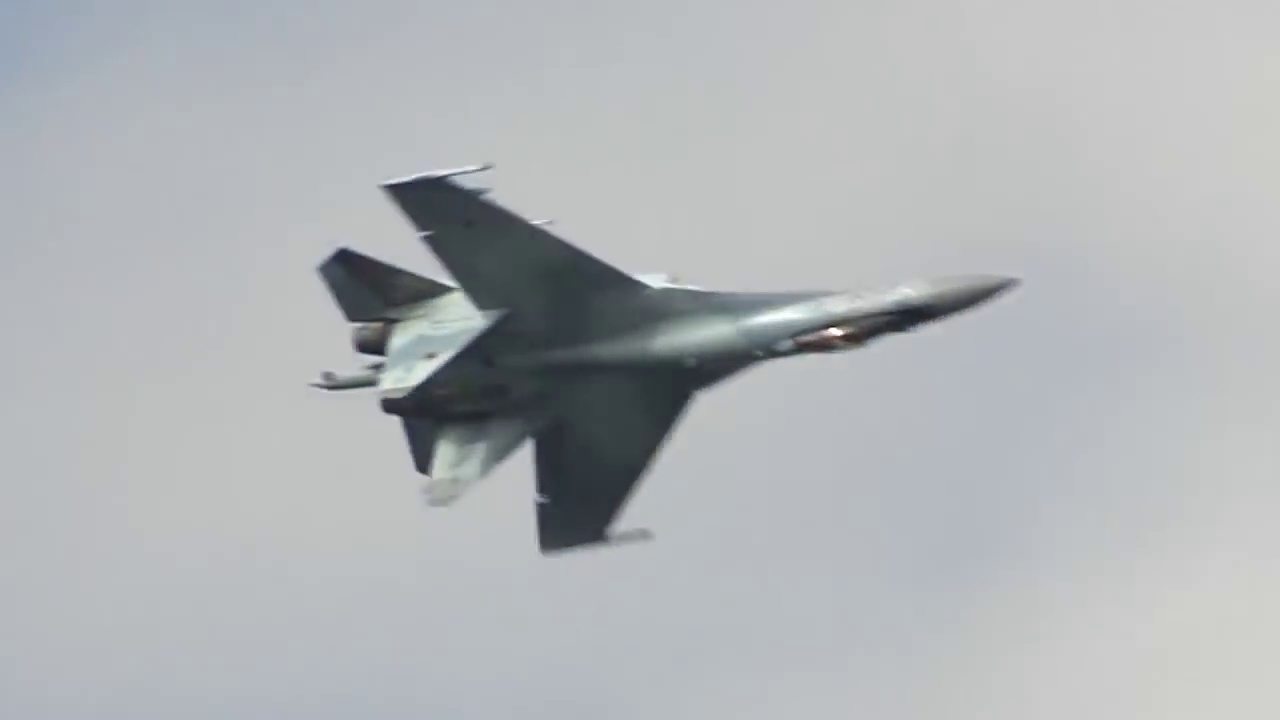Su35: (305, 155, 1024, 561)
